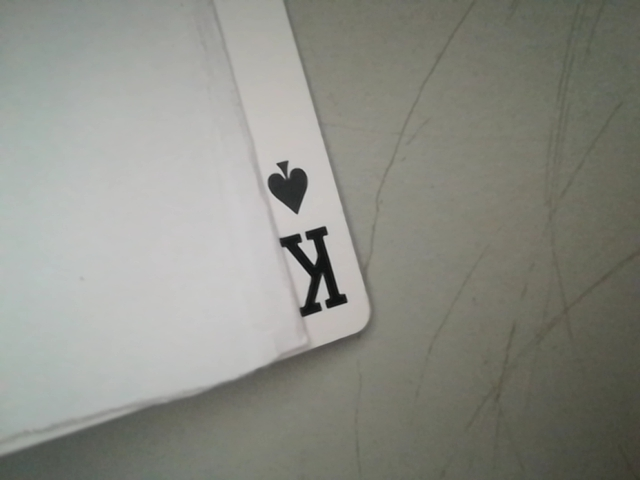ht k: (250, 150, 364, 333)
